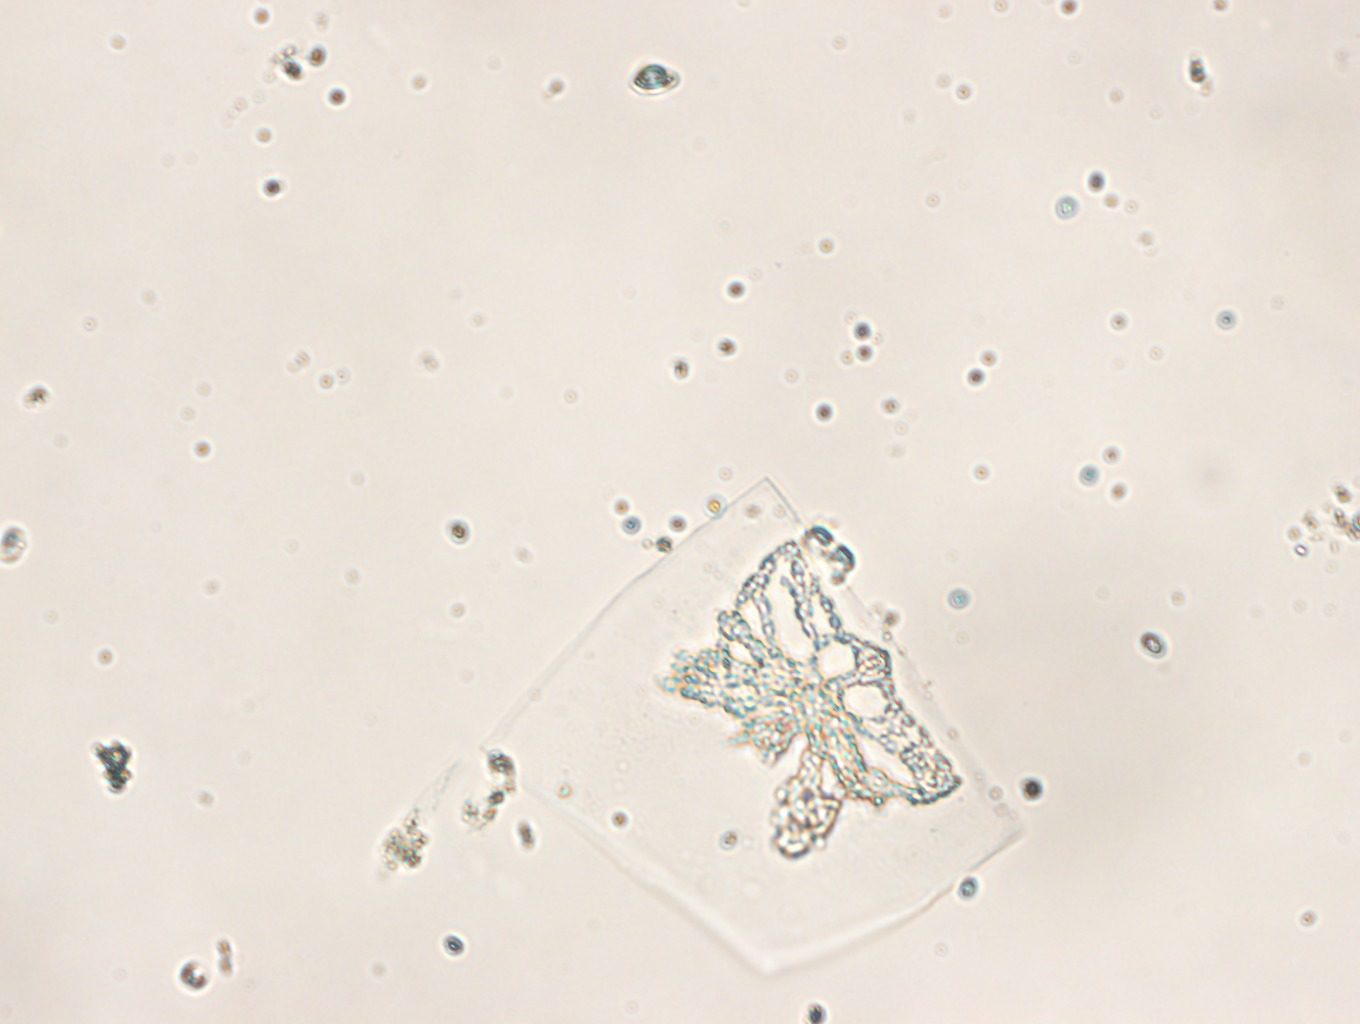helicotheca: (482, 478, 1028, 979)
